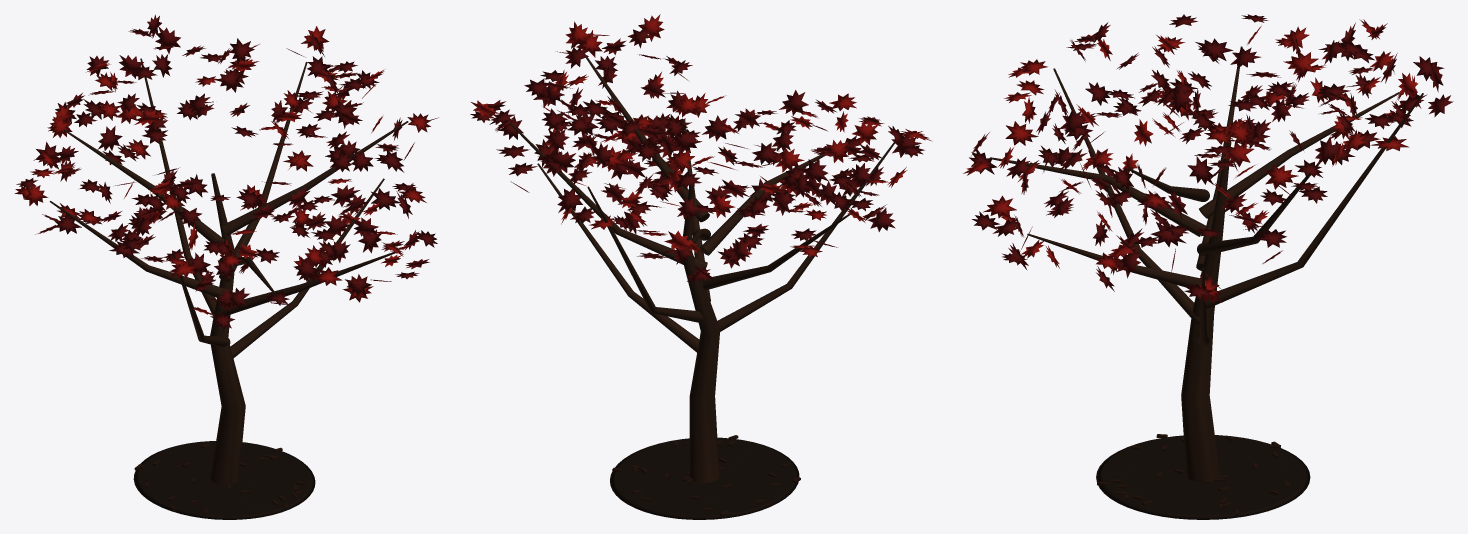
The model's file is JapaneseMaple.fbx.
3 views of the same model, side by side, from view 1: azimuth 30°, elevation 25°; view 2: azimuth 150°, elevation 25°; view 3: azimuth 270°, elevation 25° (orthographic). The views are drawn at different scales.
Parts seen in each view (by area): view 1: JapaneseMaple__Canopy, JapaneseMaple__Body; view 2: JapaneseMaple__Canopy, JapaneseMaple__Body; view 3: JapaneseMaple__Canopy, JapaneseMaple__Body.
Boxes of the visible parts, x1,y1,x2,y2 form: JapaneseMaple__Canopy: (14,14,438,329); JapaneseMaple__Body: (49,58,408,519); JapaneseMaple__Canopy: (470,14,932,282); JapaneseMaple__Body: (509,53,894,519); JapaneseMaple__Canopy: (963,14,1453,303); JapaneseMaple__Body: (989,46,1423,519).
Bounding box in the file's own units: 252 × 252 × 252.
Materials: 1 (1 with a texture image).
